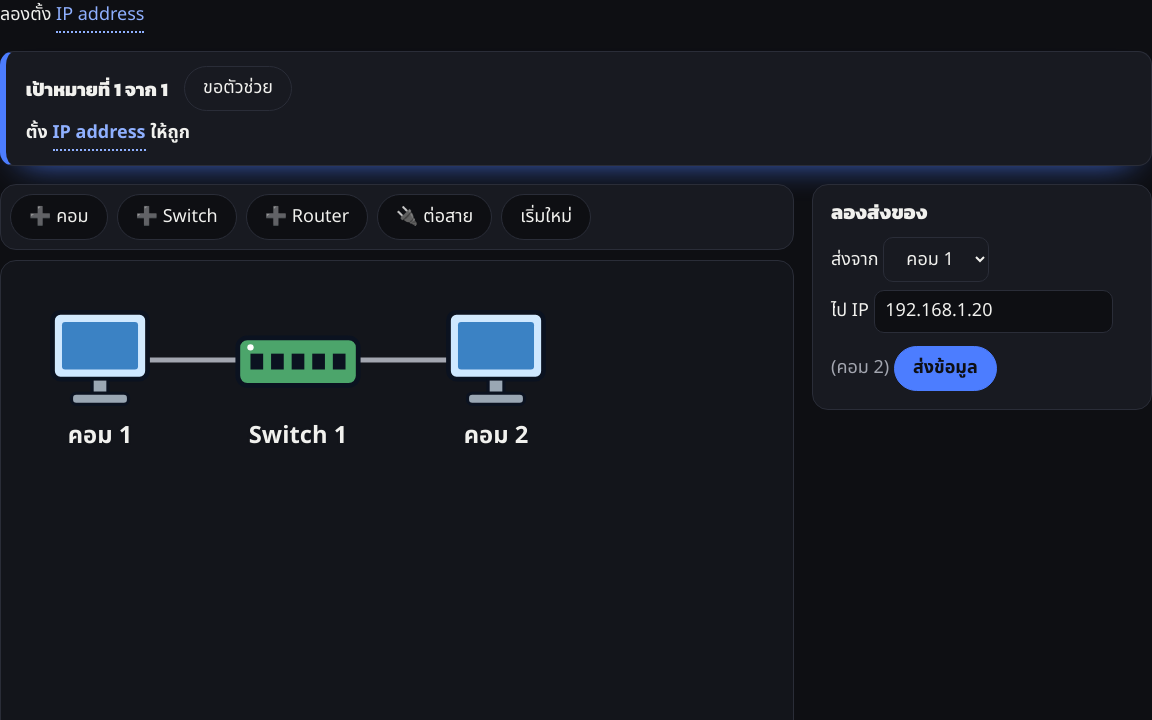
Test case: LabView termIds › คำศัพท์ใน intro และตัวช่วย กดดูความหมายได้
The width and height of the screenshot is (1152, 720).
Expected: the number of buttons "IP address" is 2, [56,0,144,33]; [52,118,146,151]
Click the button "ขอตัวช่วย".
click(238, 89)  # box [184,66,292,111]
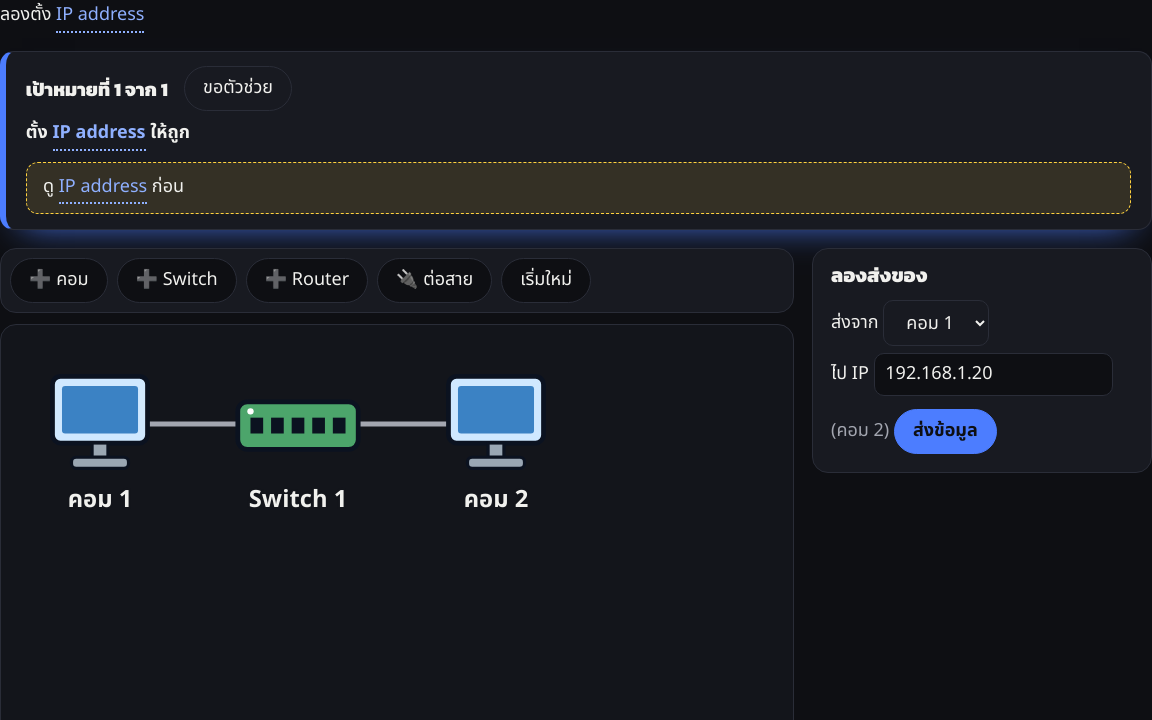
Expected: the number of buttons "IP address" is 3, [56,0,144,33]; [52,118,146,151]; [59,172,147,204]
